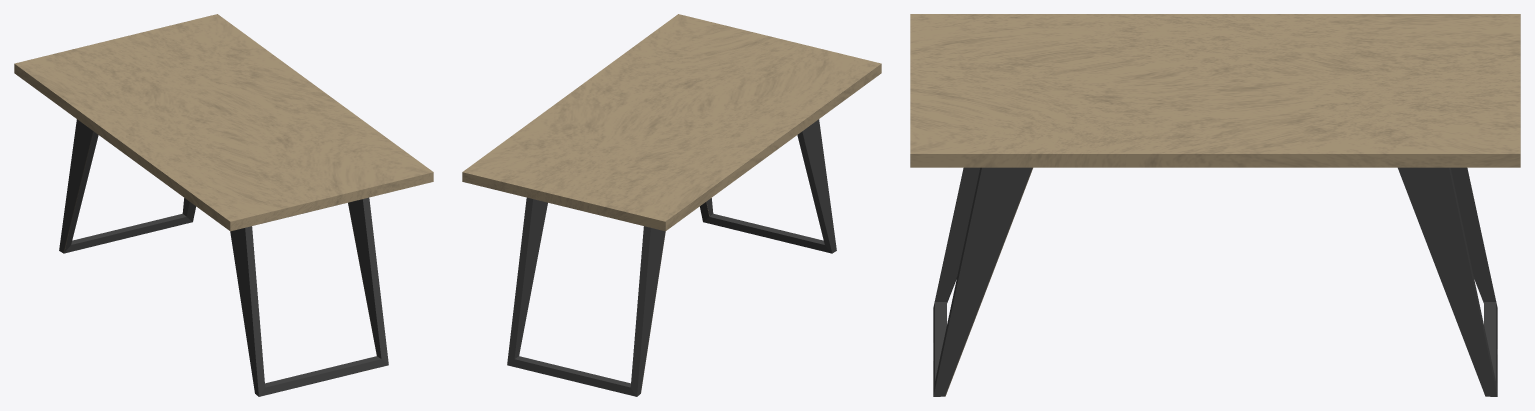
Rendered from Mdl.Table.fbx.
The picture shows the model from 3 angles, left to right: view 1: azimuth 30°, elevation 25°; view 2: azimuth 150°, elevation 25°; view 3: azimuth 270°, elevation 25°; orthographic projection. The views are drawn at different scales.
Parts seen in each view (by area): view 1: Table; view 2: Table; view 3: Table.
Part boxes in pixels (x1,y1,x2,y2): Table: (14,14,433,396); Table: (462,14,881,396); Table: (910,14,1520,396).
Size of the model in its own units: 90 by 80.37 by 166.
1 material, 1 textured.
